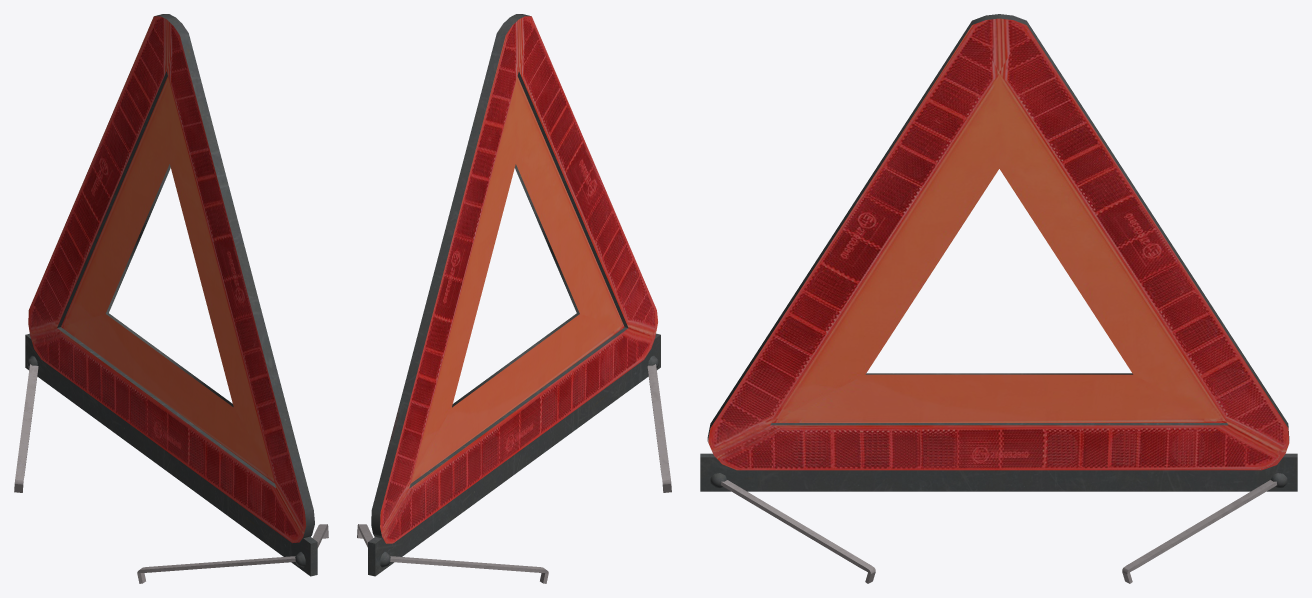
File: sm_sanjiaojingshipai_45cm.fbx
3 renders of one model, left to right at view 1: azimuth 30°, elevation 25°; view 2: azimuth 150°, elevation 25°; view 3: azimuth 270°, elevation 25°, orthographic. The views are drawn at different scales.
Parts seen in each view (by area): view 1: sm_sanjiaojingshipai_45cm; view 2: sm_sanjiaojingshipai_45cm; view 3: sm_sanjiaojingshipai_45cm.
Part boxes in pixels (<box>): sm_sanjiaojingshipai_45cm: <box>14,14,328,583</box>; sm_sanjiaojingshipai_45cm: <box>357,14,671,583</box>; sm_sanjiaojingshipai_45cm: <box>700,14,1297,583</box>.
Bounding box in the file's own units: 0.1812 × 0.4505 × 0.4689.
1 material, 1 textured.
